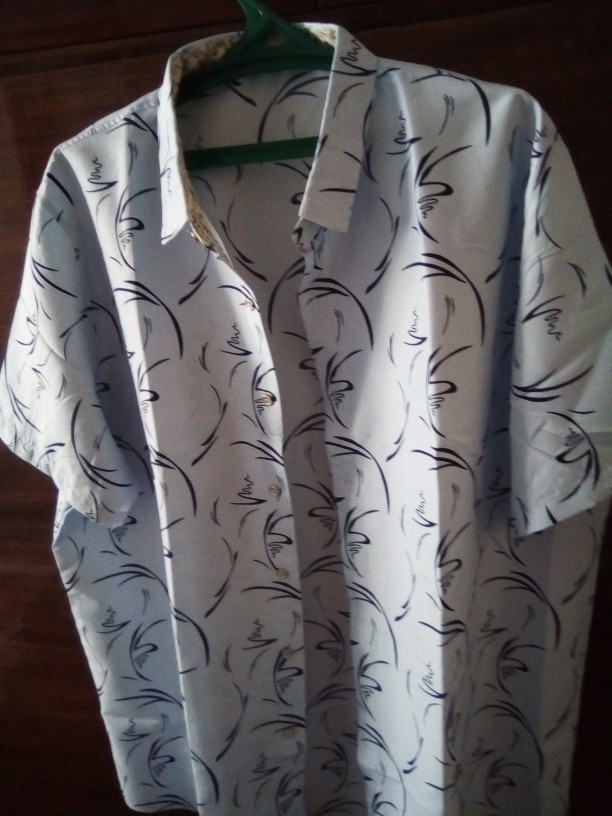shirts: (26, 40, 612, 792)
